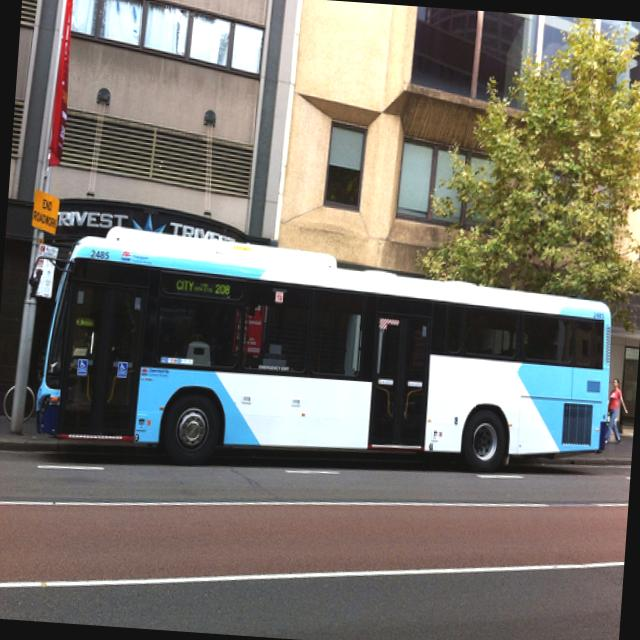Vehicle: (35, 220, 625, 495)
